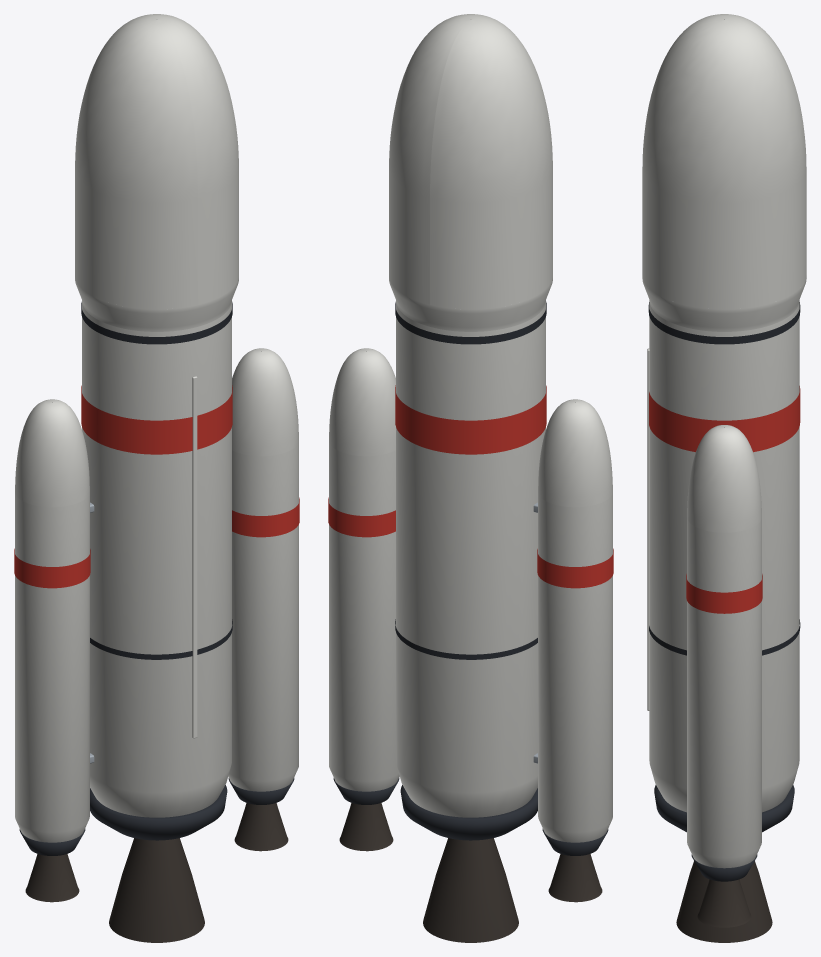
File: fusee.glb
3 renders of one model, left to right at view 1: azimuth 30°, elevation 25°; view 2: azimuth 150°, elevation 25°; view 3: azimuth 270°, elevation 25°, orthographic.
Visible parts, largest first — view 1: corps, booster_g, booster_d, coiffe_g, coiffe_d; view 2: corps, booster_g, booster_d, coiffe_g, coiffe_d; view 3: corps, coiffe_d, booster_d, coiffe_g.
Part boxes in pixels (<box>): corps: <box>75,277,238,942</box>; booster_g: <box>14,399,94,902</box>; booster_d: <box>228,348,299,851</box>; coiffe_g: <box>75,15,197,309</box>; coiffe_d: <box>145,14,238,304</box>; corps: <box>389,277,552,942</box>; booster_g: <box>533,399,613,902</box>; booster_d: <box>328,348,399,851</box>; coiffe_g: <box>430,15,552,309</box>; coiffe_d: <box>389,14,482,304</box>; corps: <box>642,275,806,942</box>; coiffe_d: <box>642,20,806,309</box>; booster_d: <box>686,425,762,927</box>; coiffe_g: <box>645,14,803,122</box>.
Size of the model in its own units: 1.36 by 4.25 by 0.7.
